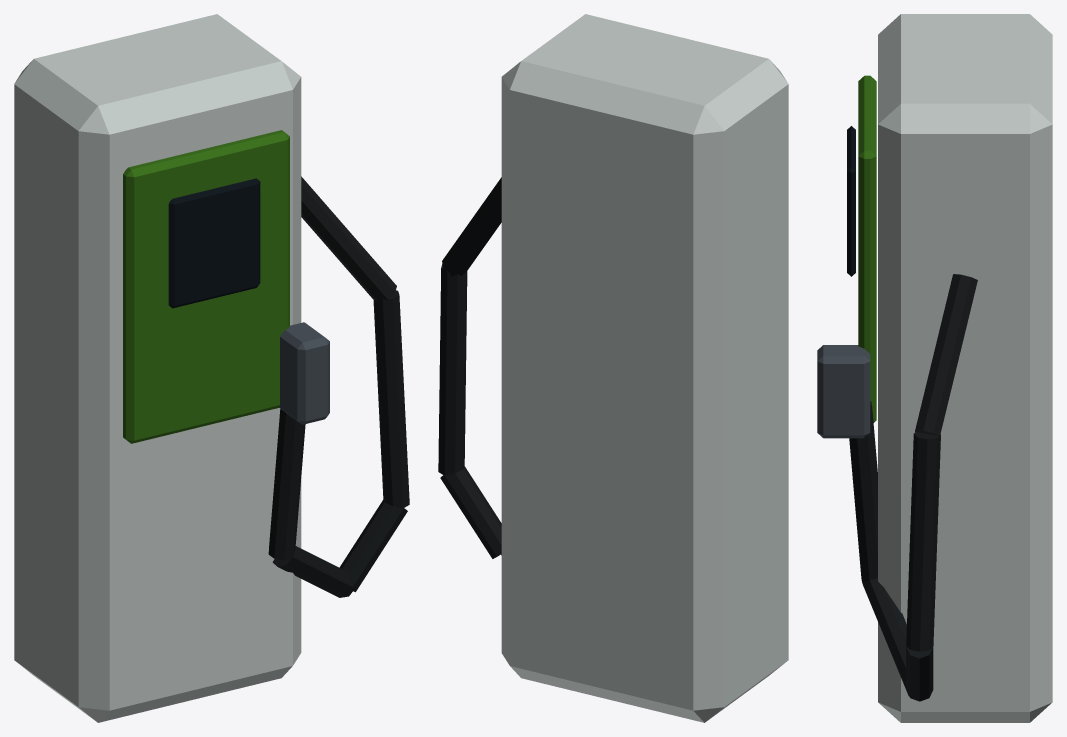
Rendered from EVChargerWall.fbx.
3 renders of one model, left to right at view 1: azimuth 30°, elevation 25°; view 2: azimuth 150°, elevation 25°; view 3: azimuth 270°, elevation 25°, orthographic.
Visible parts, largest first — view 1: EVChargerWall; view 2: EVChargerWall; view 3: EVChargerWall.
Boxes of the visible parts, box(x1,y1,x2,y2) form: EVChargerWall: box(14, 14, 409, 722); EVChargerWall: box(438, 14, 788, 722); EVChargerWall: box(817, 14, 1052, 722).
Bounding box in the file's own units: 51.8 × 90 × 31.
Materials: 1 (1 with a texture image).
